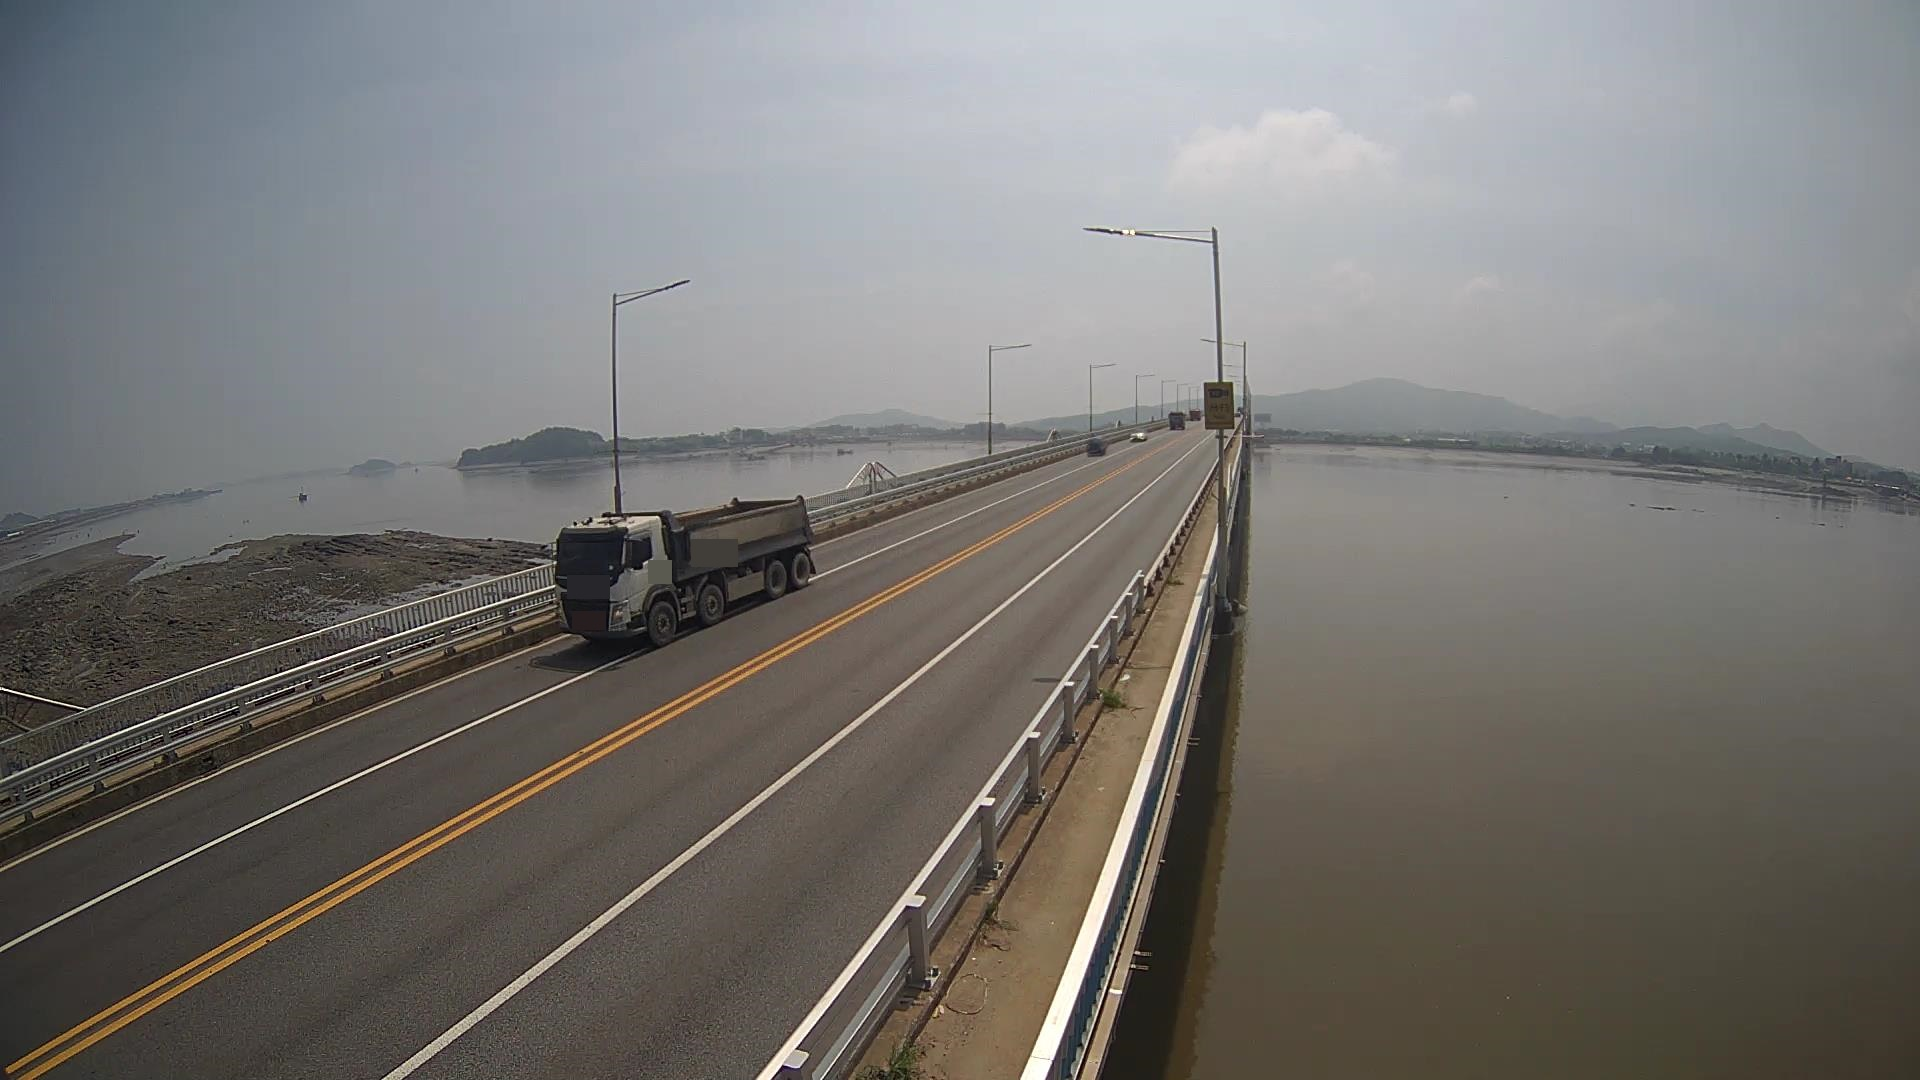정상차량: (541, 495, 817, 647)
